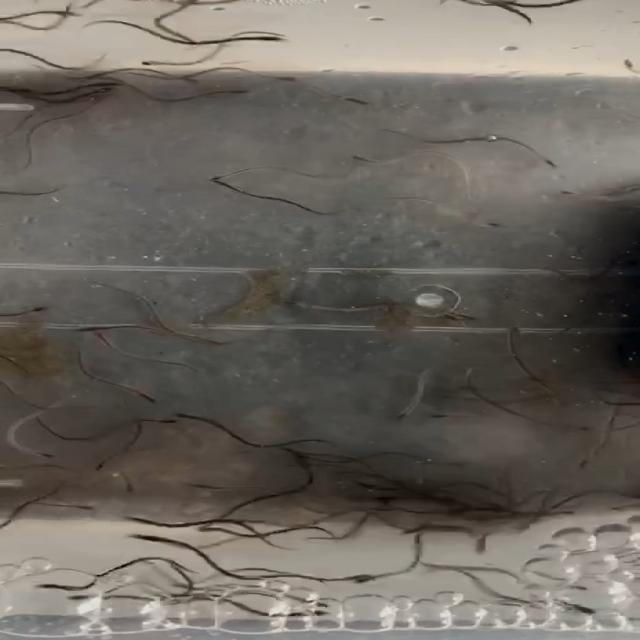active_glass_eel: (551, 596, 605, 622), (337, 146, 388, 172), (112, 529, 172, 549), (454, 536, 496, 562), (238, 28, 294, 47), (32, 579, 88, 598), (64, 499, 116, 519), (320, 571, 388, 586), (127, 384, 162, 412), (530, 153, 587, 170), (265, 69, 311, 90), (46, 320, 99, 338), (492, 314, 528, 340), (378, 406, 424, 426), (424, 306, 472, 325), (351, 492, 408, 508), (264, 296, 314, 314), (118, 54, 170, 71), (280, 605, 332, 622), (78, 78, 120, 99), (393, 523, 434, 543), (567, 448, 596, 476), (18, 303, 61, 321), (78, 461, 121, 479), (448, 364, 486, 384), (138, 416, 185, 432), (30, 444, 63, 466), (124, 512, 164, 530), (119, 478, 154, 498), (170, 406, 208, 422), (190, 172, 232, 186), (425, 408, 453, 429), (52, 592, 92, 606), (85, 330, 118, 346), (204, 178, 236, 192)
